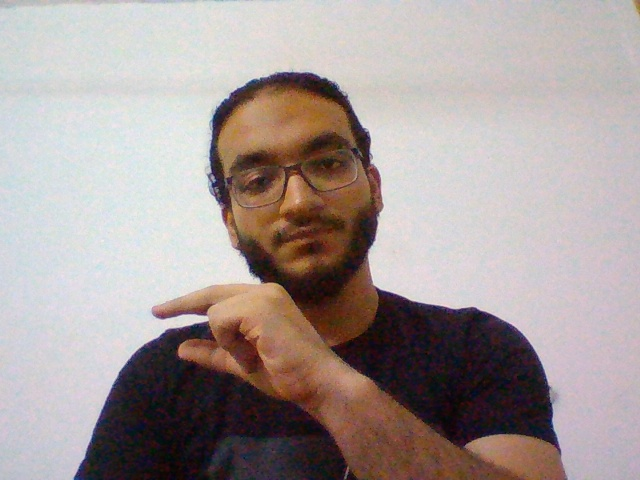No: (150, 279, 334, 404)
